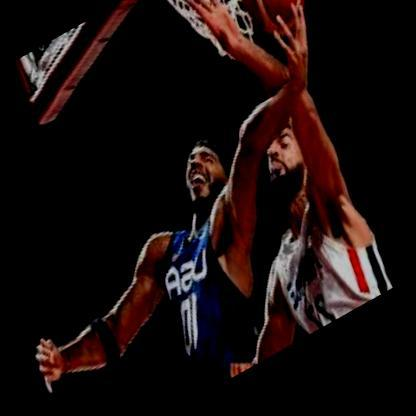basketball: (220, 0, 320, 59)
